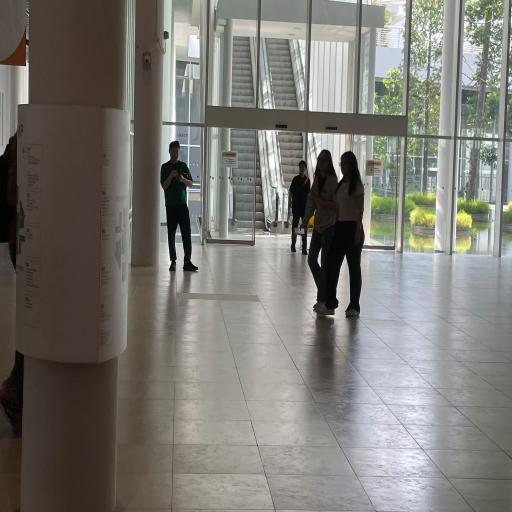person_left: (334, 149, 368, 320), (308, 142, 339, 318)
